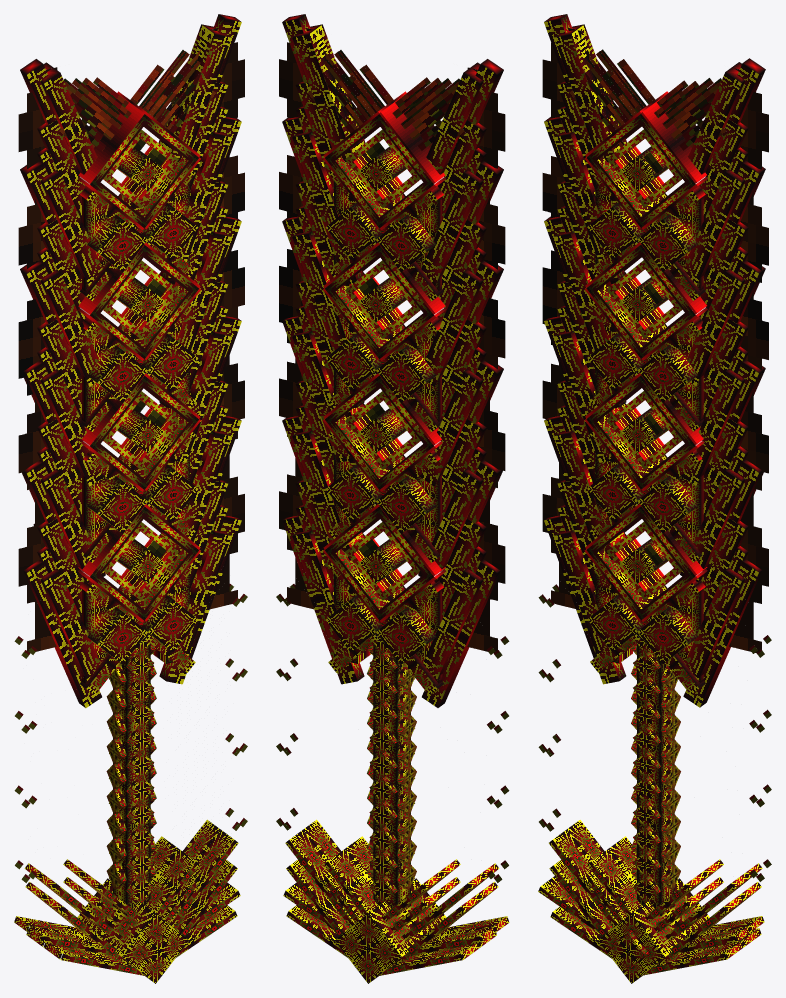
The model's file is netherite_sword.gltf.
3 renders of one model, left to right at view 1: azimuth 30°, elevation 25°; view 2: azimuth 150°, elevation 25°; view 3: azimuth 330°, elevation 25°, orthographic.
Parts seen in each view (by area): view 1: cube (×94); view 2: cube (×97); view 3: cube (×93).
Boxes of the visible parts, box(x1,y1,x2,y2) form: cube (×94): box(14, 14, 244, 983); cube (×97): box(279, 14, 509, 983); cube (×93): box(538, 14, 768, 983).
Size of the model in its own units: 0.2969 by 1.16 by 0.1172.
19 materials, 9 textured.
